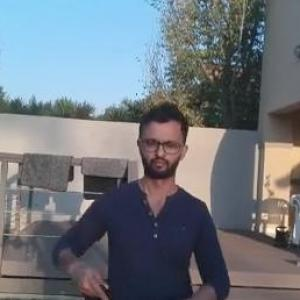follow: (42, 95, 236, 299)
